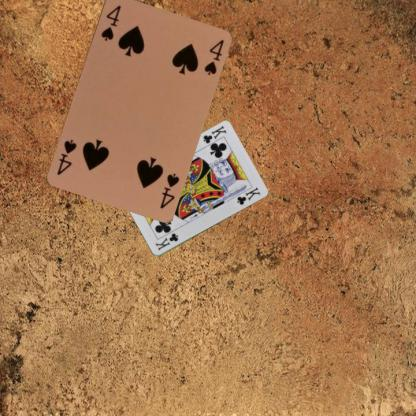4s: (98, 1, 122, 42), (157, 170, 181, 210)
Kc: (200, 123, 228, 145), (153, 230, 179, 252)
